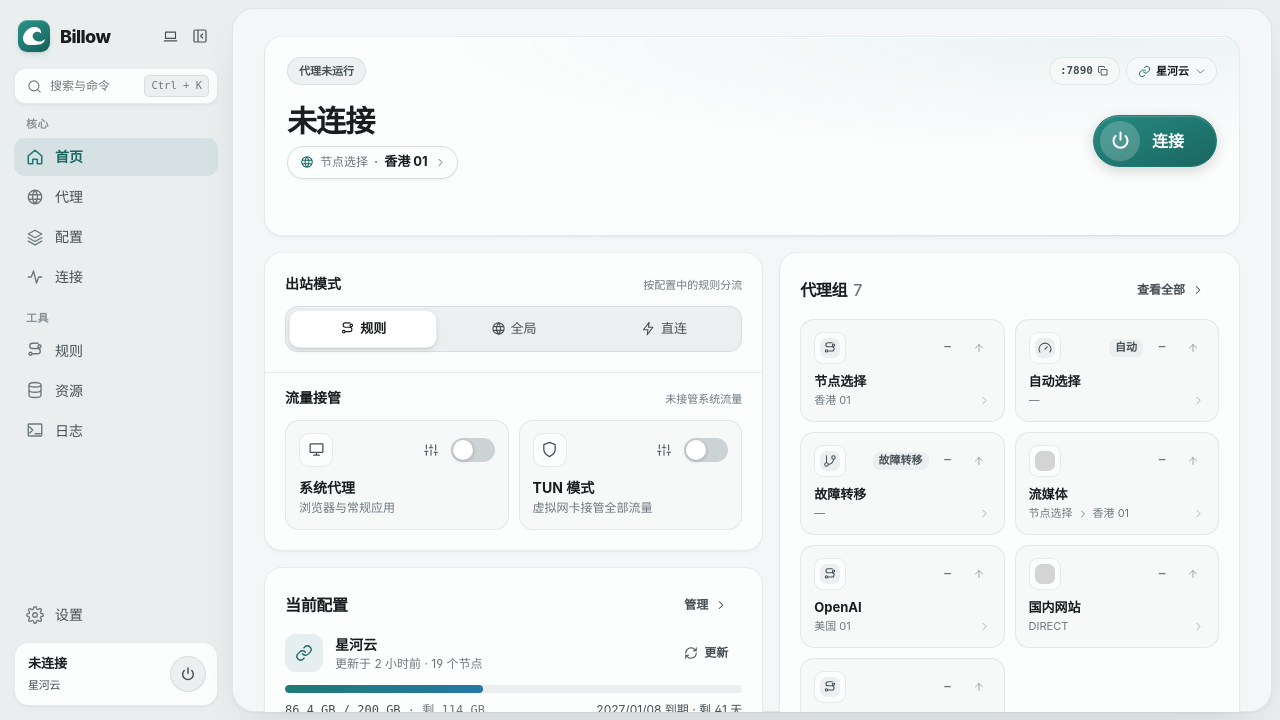
Test: App › connects from the power button and shows live rates
Expected: the heading with test id "status" reads "未连接", [287,103,374,139]
Click the button with test id "power".
click(1155, 141)  # box [1093,115,1217,167]
Wait 1500 ms
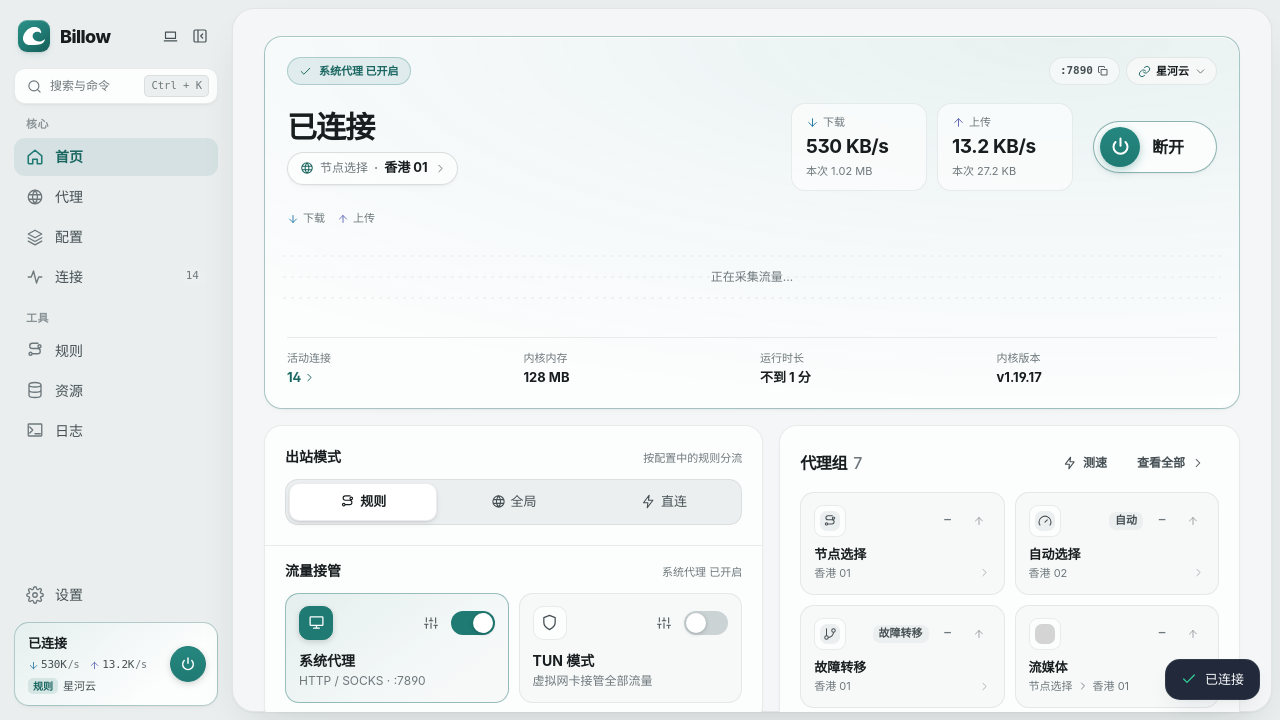
Result: the heading with test id "status" reads "已连接" at [287,109,374,145]
Result: the element with test id "rates" is shown at [791,103,1073,190]
